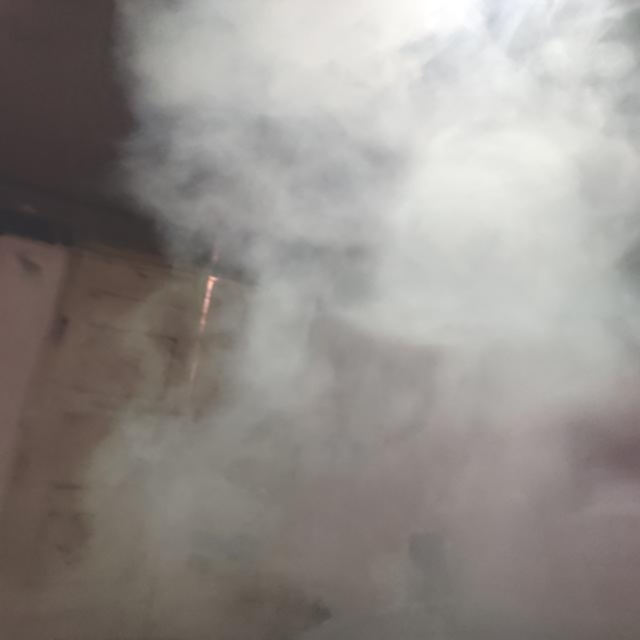smoke: (188, 0, 635, 638)
